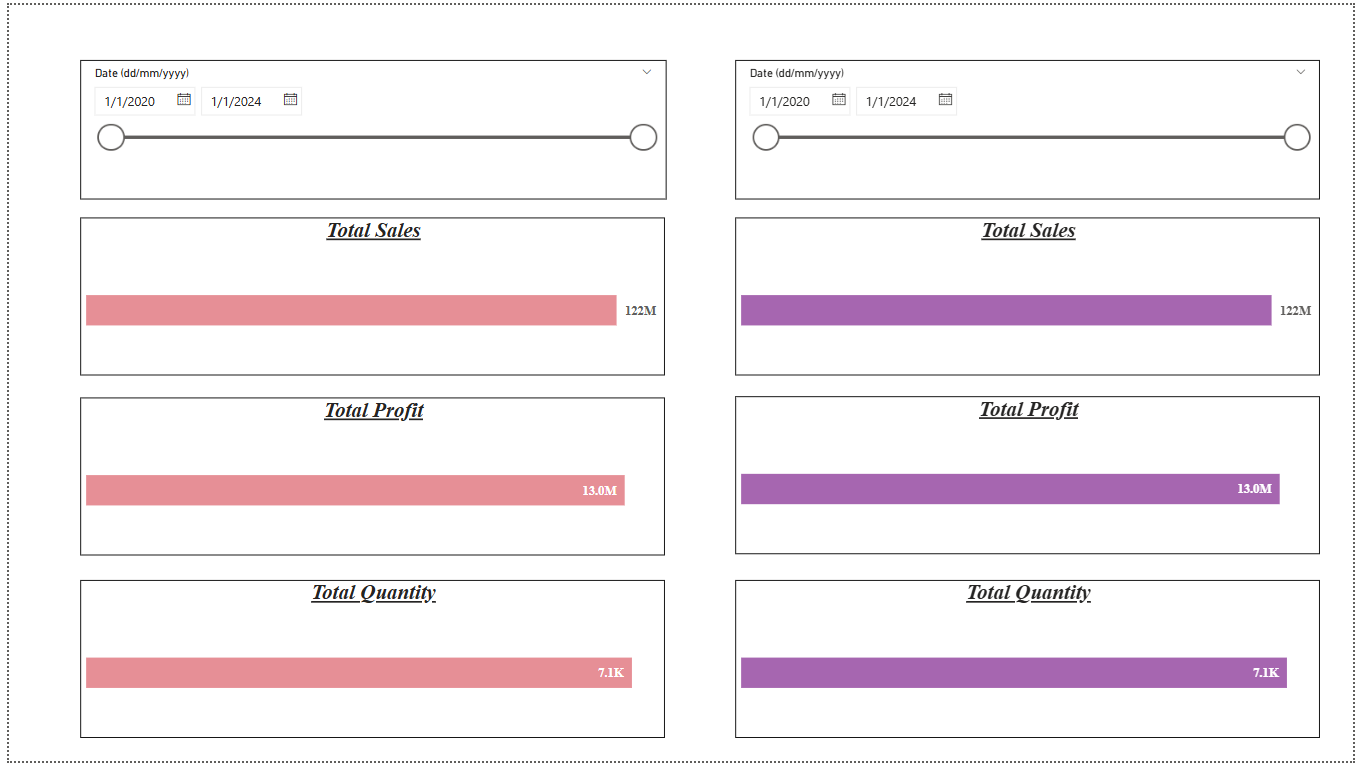

Layout of this report page (visuals, bound fields, positions):
{"tool":"powerbi","page":{"name":"Edit Interactions","canvas":[1280,720],"ordinal":3},"visuals":[{"type":"slicer","fields":{"Values":["fact table.Date (dd/mm/yyyy)"]},"box":[67.4,52.3,558.1,132.6],"z":0},{"type":"slicer","fields":{"Values":["fact table.Date (dd/mm/yyyy)"]},"box":[691.9,52.3,557,132.6],"z":1000},{"type":"barChart","title":"Total Sales","fields":{"Y":["Sum(fact table.net sales)"]},"box":[67.4,202.3,557,150],"z":2000},{"type":"barChart","title":"Total Profit","fields":{"Y":["Sum(fact table.profit)"]},"box":[67.4,373.3,557,150],"z":3000},{"type":"barChart","title":"Total Quantity","fields":{"Y":["Sum(fact table.Units Sold)"]},"box":[67.4,547.7,557,150],"z":4000},{"type":"barChart","title":"Total Sales","fields":{"Y":["Sum(fact table.net sales)"]},"box":[691.4,202.1,557,150],"z":4001},{"type":"barChart","title":"Total Profit","fields":{"Y":["Sum(fact table.profit)"]},"box":[691.4,373,557,150],"z":4002},{"type":"barChart","title":"Total Quantity","fields":{"Y":["Sum(fact table.Units Sold)"]},"box":[691.4,547.4,557,150],"z":4003}]}

Visuals, with their boxes in screenshot pixels (x1, y1, x2, y2), scaled from the page's 1280x720 canvas onto the 1362x770 screenshot:
slicer - fact table.Date (dd/mm/yyyy): 72,56,666,198
slicer - fact table.Date (dd/mm/yyyy): 736,56,1329,198
"Total Sales" barChart: 72,216,664,377
"Total Profit" barChart: 72,399,664,560
"Total Quantity" barChart: 72,586,664,746
"Total Sales" barChart: 736,216,1328,377
"Total Profit" barChart: 736,399,1328,559
"Total Quantity" barChart: 736,585,1328,746
